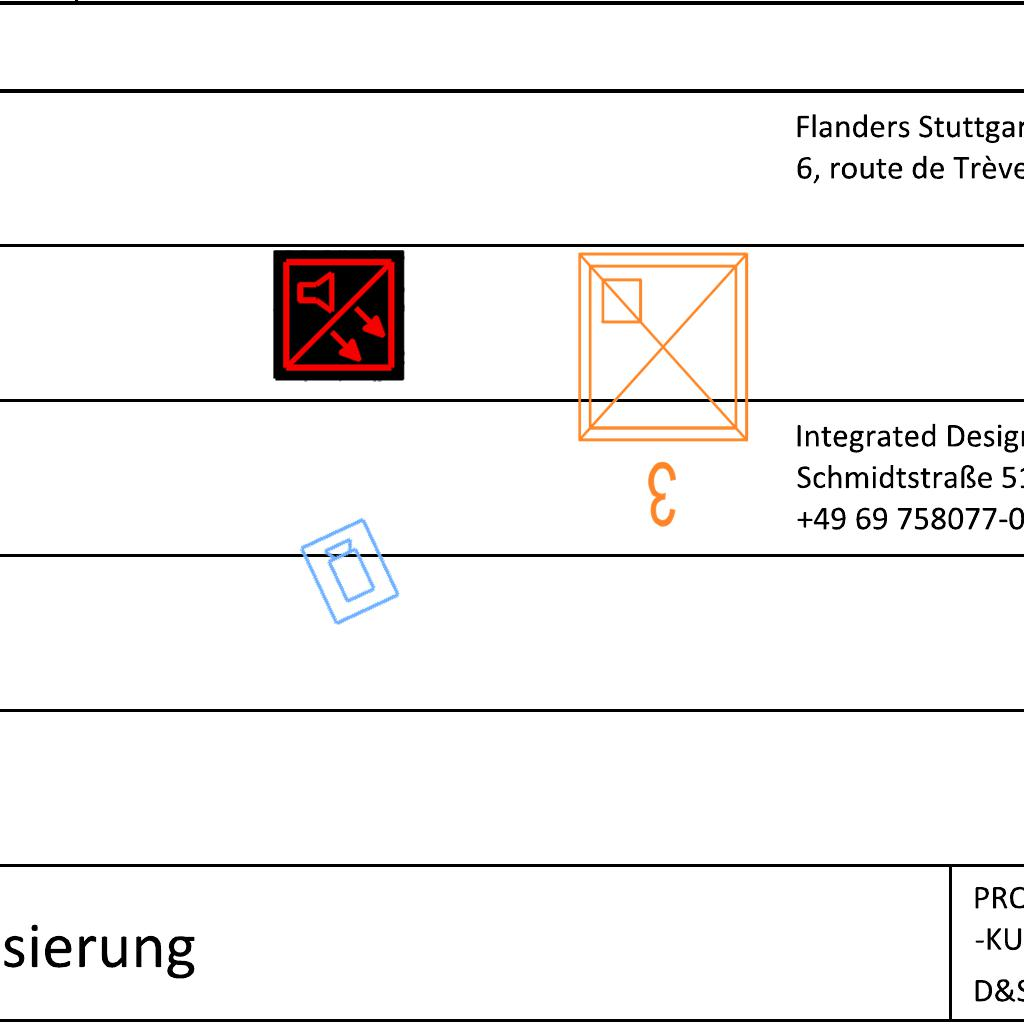Einbaudownlights_LED_Konferenzraeume: (563, 238, 771, 538)
KFO_Kamera_mit_Festobjektiv: (296, 513, 405, 630)
OKW_Multisensormelder_(Kombination_optischer_Rauch-Kahlenmonoxid_Waerme-Melder): (273, 250, 405, 382)
